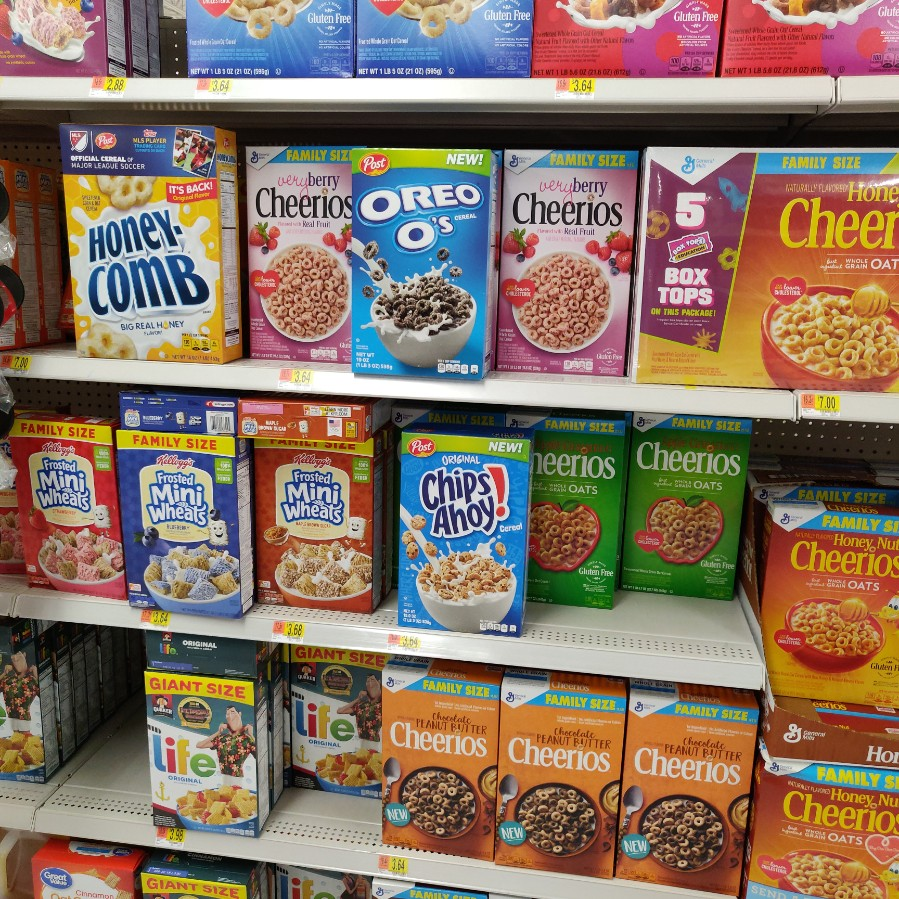Chips Ahoys-565717529: (397, 431, 523, 634)
Honey Comb- 009288857: (55, 122, 236, 360)
Oreo-563424384: (349, 144, 494, 380)
